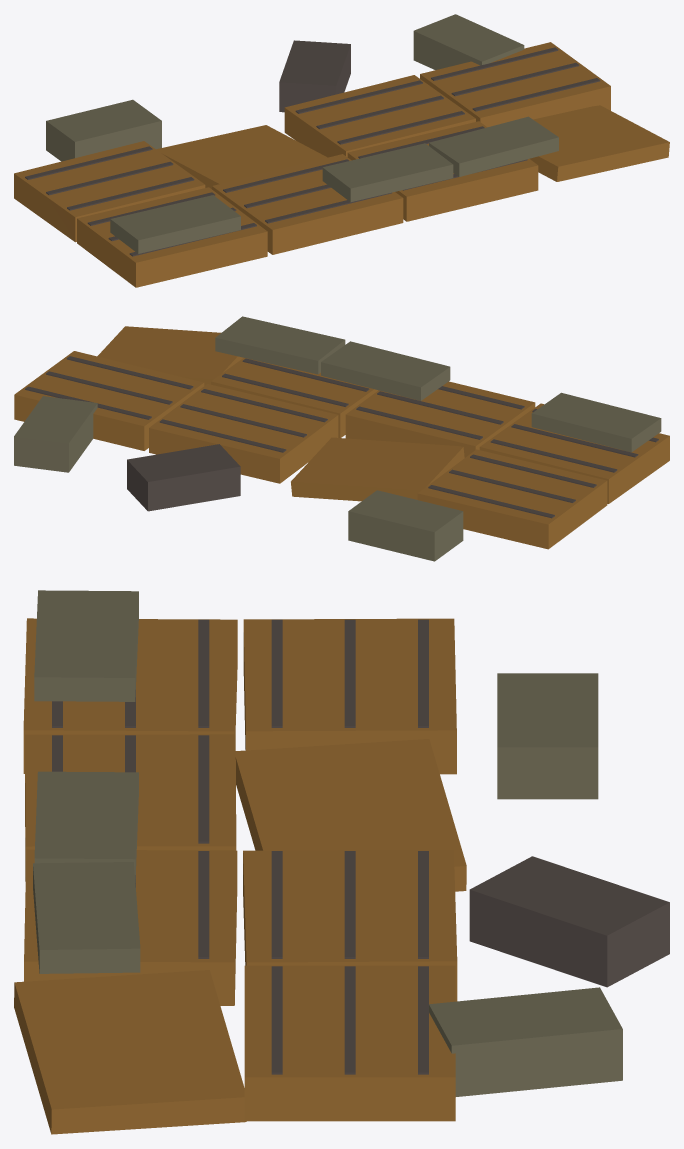
Rendered from SM_Banqueta_v3_LOD0.fbx.
3 renders of one model, top to bottom at view 1: azimuth 30°, elevation 25°; view 2: azimuth 150°, elevation 25°; view 3: azimuth 270°, elevation 25°, orthographic. The views are drawn at different scales.
Visible parts, largest first — view 1: SM_banqueta_tiro_v3_LOD0; view 2: SM_banqueta_tiro_v3_LOD0; view 3: SM_banqueta_tiro_v3_LOD0.
Part boxes in pixels (x1=…): SM_banqueta_tiro_v3_LOD0: x1=14, y1=14, x2=669, y2=287; SM_banqueta_tiro_v3_LOD0: x1=14, y1=316, x2=669, y2=561; SM_banqueta_tiro_v3_LOD0: x1=14, y1=590, x2=669, y2=1134.
Size of the model in its own units: 4.98 by 0.4418 by 2.99.
